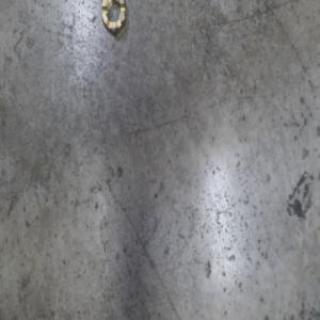Nuttrack_idkeyframe: (98, 0, 127, 37)
